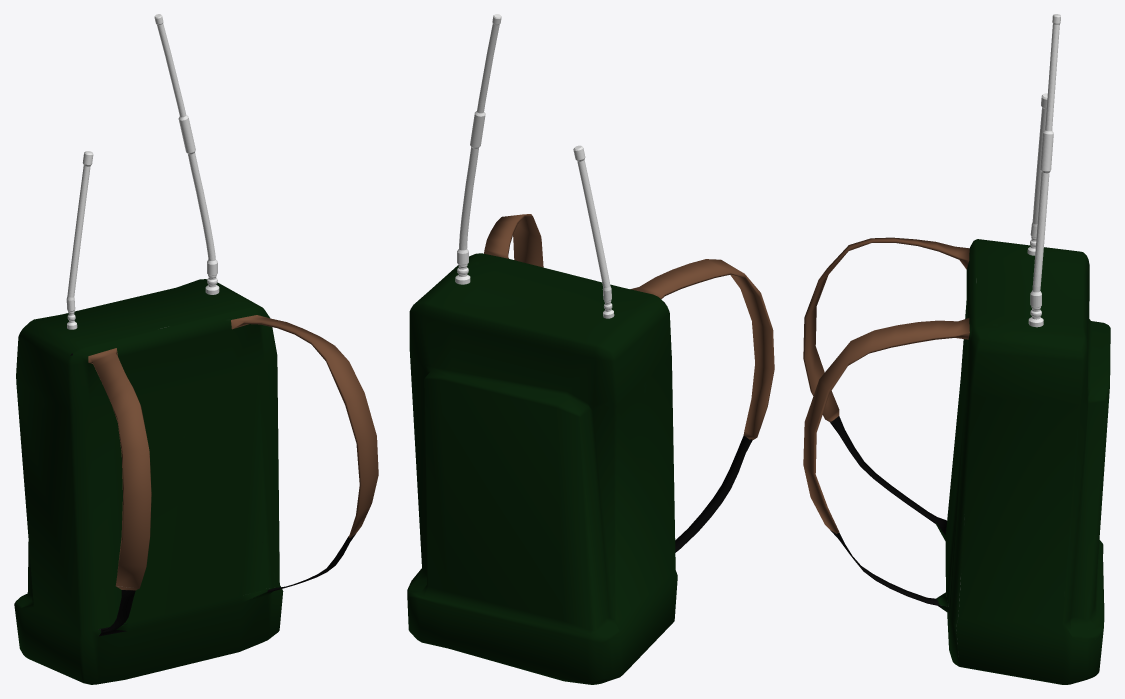
File: Backpack.fbx
3 views of the same model, side by side, from view 1: azimuth 30°, elevation 25°; view 2: azimuth 150°, elevation 25°; view 3: azimuth 270°, elevation 25° (orthographic). The views are drawn at different scales.
Parts seen in each view (by area): view 1: BackPack_LowPoly, Antennas; view 2: BackPack_LowPoly, Antennas; view 3: BackPack_LowPoly, Antennas.
Part boxes in pixels (x1,y1,x2,y2): BackPack_LowPoly: (14,279,378,684); Antennas: (66,14,219,329); BackPack_LowPoly: (407,214,774,684); Antennas: (455,14,614,318); BackPack_LowPoly: (803,237,1110,684); Antennas: (1027,14,1060,327).
Bounding box in the file's own units: 548 × 1272 × 554.
Materials: 1 (1 with a texture image).
